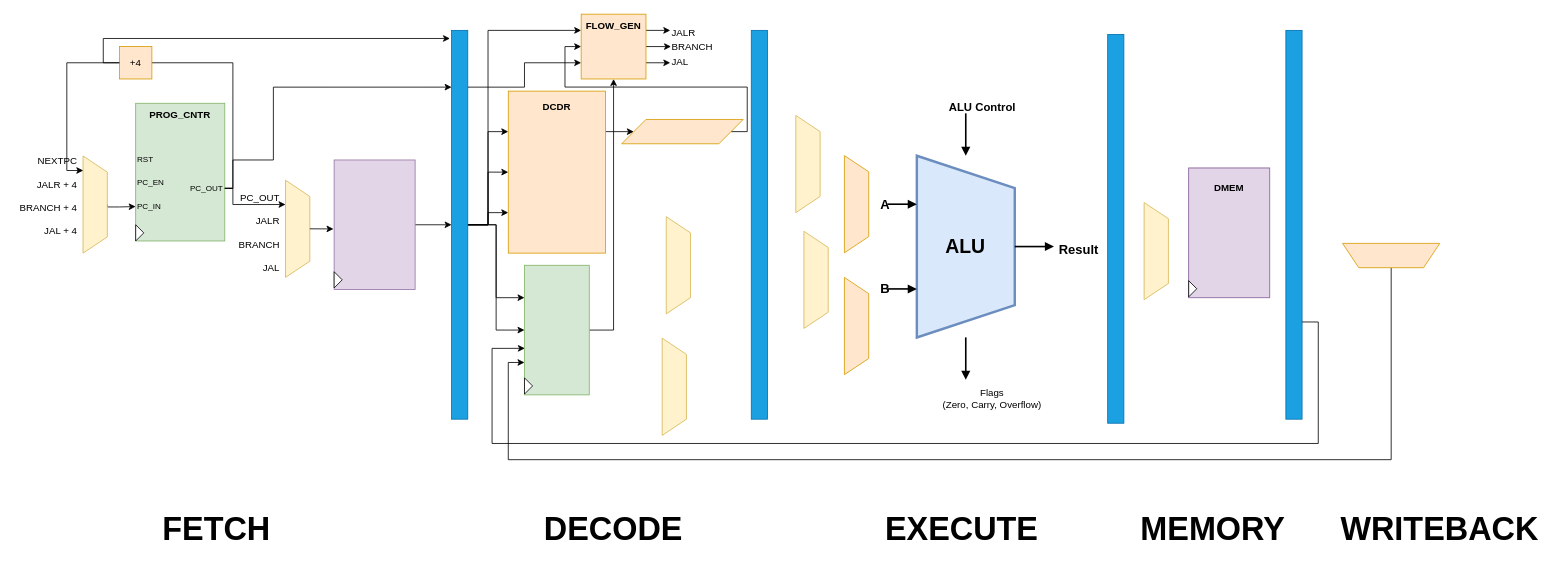
Some shapes in this 1552 by 562 pixel diagram are drawn without their labels. The box of each missing label's shape, as (x1, y1, x2, y2) in pixels:
IMEM: (333, 159, 415, 290)
IMM_GEN: (621, 119, 743, 144)
REG_FILE: (524, 264, 589, 395)
